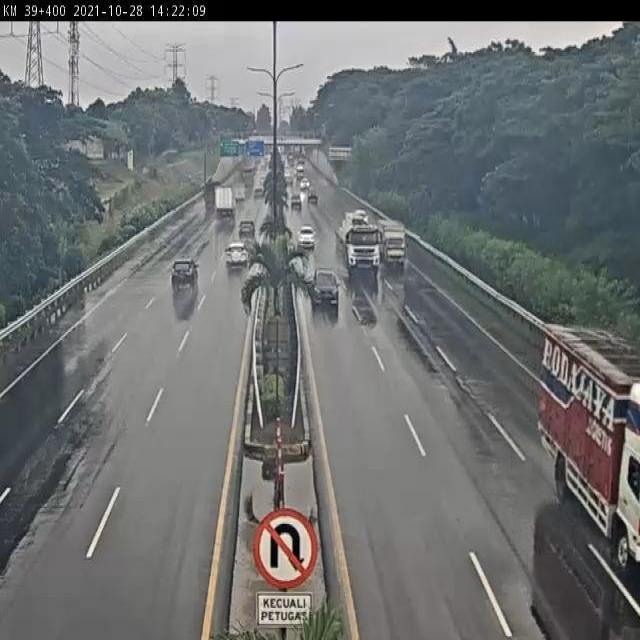car: (309, 264, 341, 308), (168, 255, 204, 293), (224, 240, 251, 272), (296, 222, 317, 250), (237, 213, 256, 240)
truck-l-: (540, 324, 640, 581)
truck-s-: (378, 212, 408, 271)
truck-xl-: (335, 208, 382, 273)
